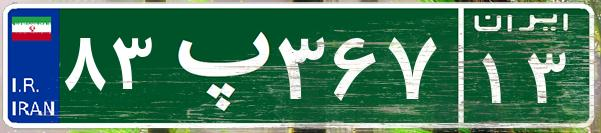1: (475, 38, 525, 113)
3: (273, 28, 330, 110), (110, 28, 158, 105), (525, 38, 570, 115)
6: (330, 28, 385, 110)
7: (385, 28, 445, 110)
8: (57, 26, 110, 107)
پ: (158, 15, 273, 115)
